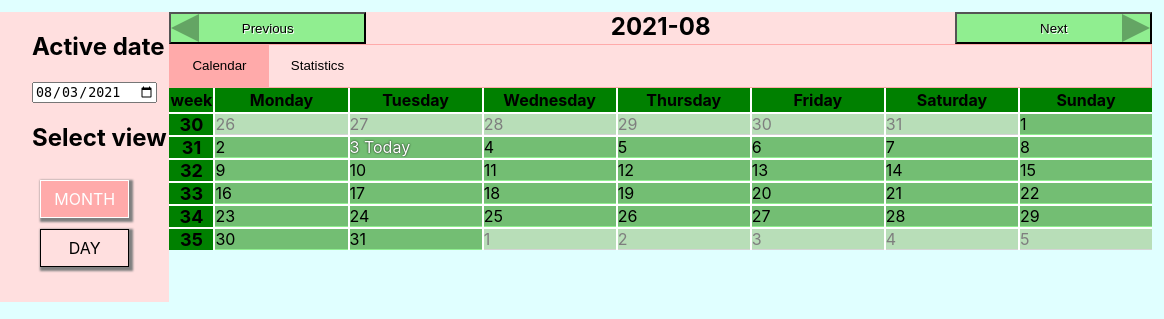
Test: Calendar › Month changes › August 2021 Next Month is September 2021
Click the button "Next" at {"x": 1054, "y": 28}, box left=956, top=12, right=1152, bottom=44
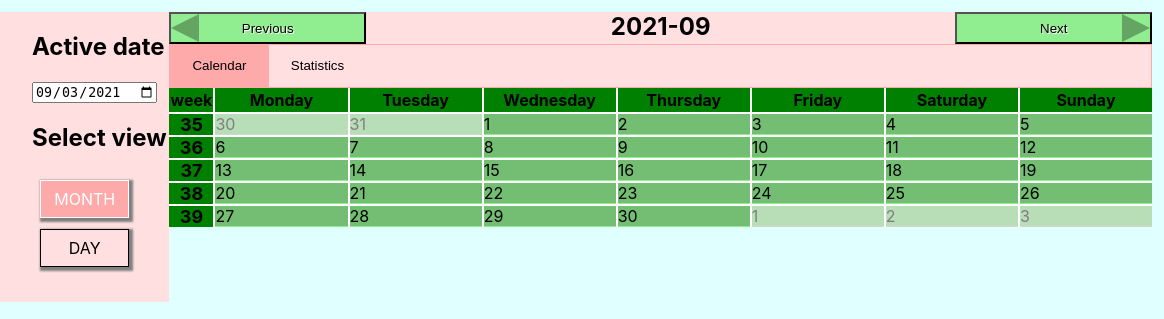
Check: the heading "2021-09" is shown, box left=611, top=12, right=711, bottom=41
